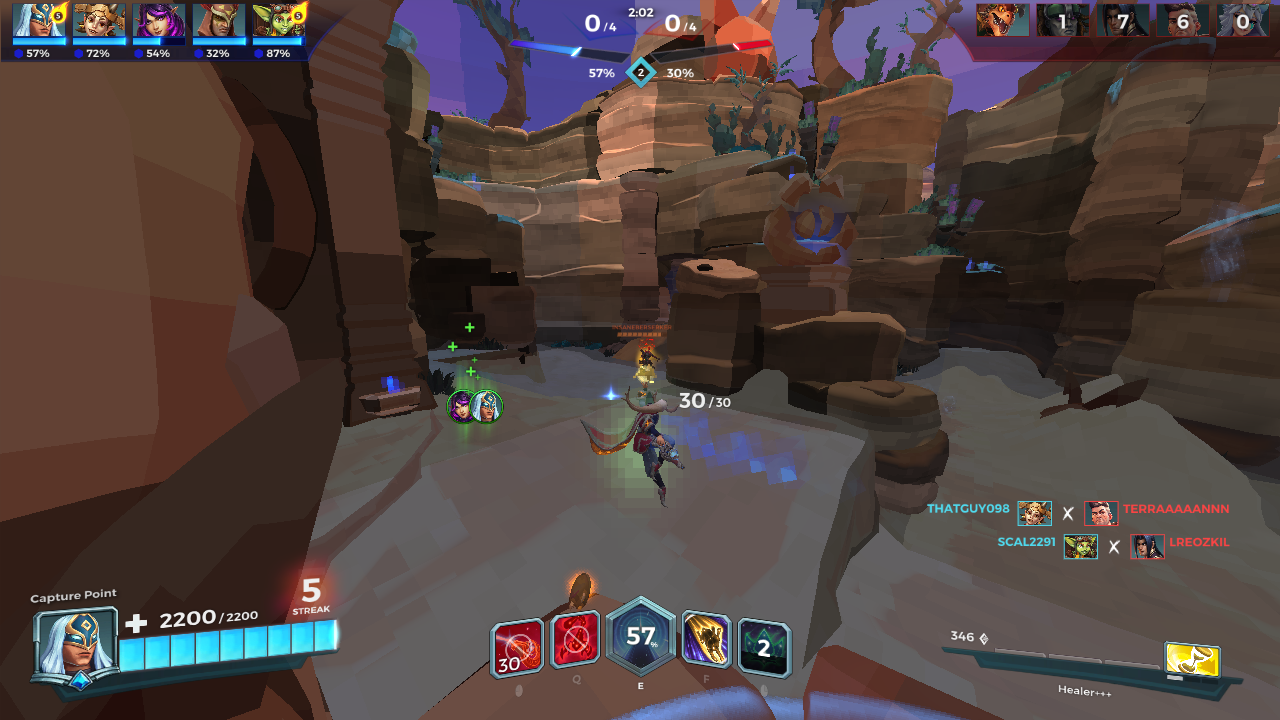model: (635, 342, 656, 373)
